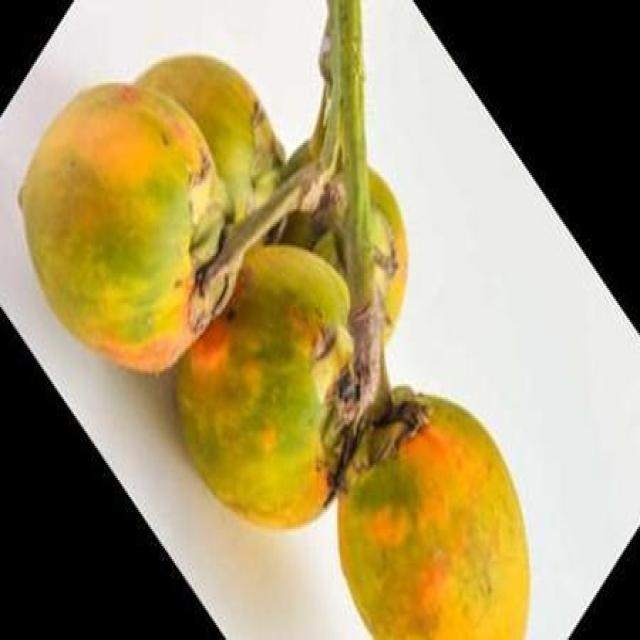good: (18, 58, 269, 375), (175, 245, 353, 533), (337, 395, 532, 638)
